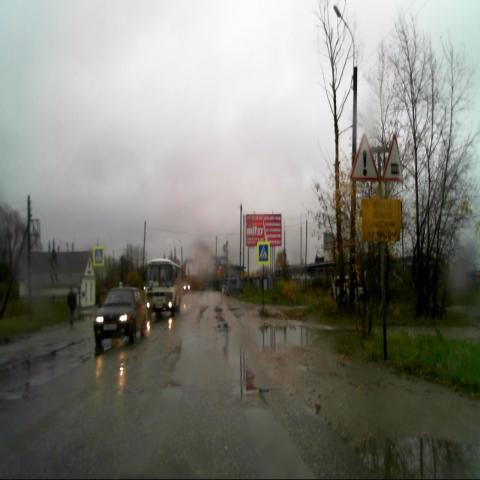1_1: (382, 134, 404, 182)
1_33: (350, 133, 380, 182)
5_19_1: (258, 242, 269, 262), (94, 246, 103, 265)
